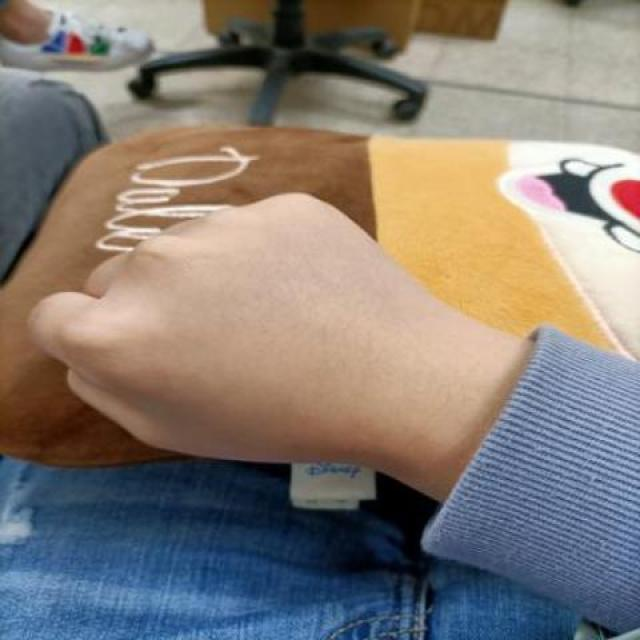Closed Hand: (12, 176, 463, 484)
